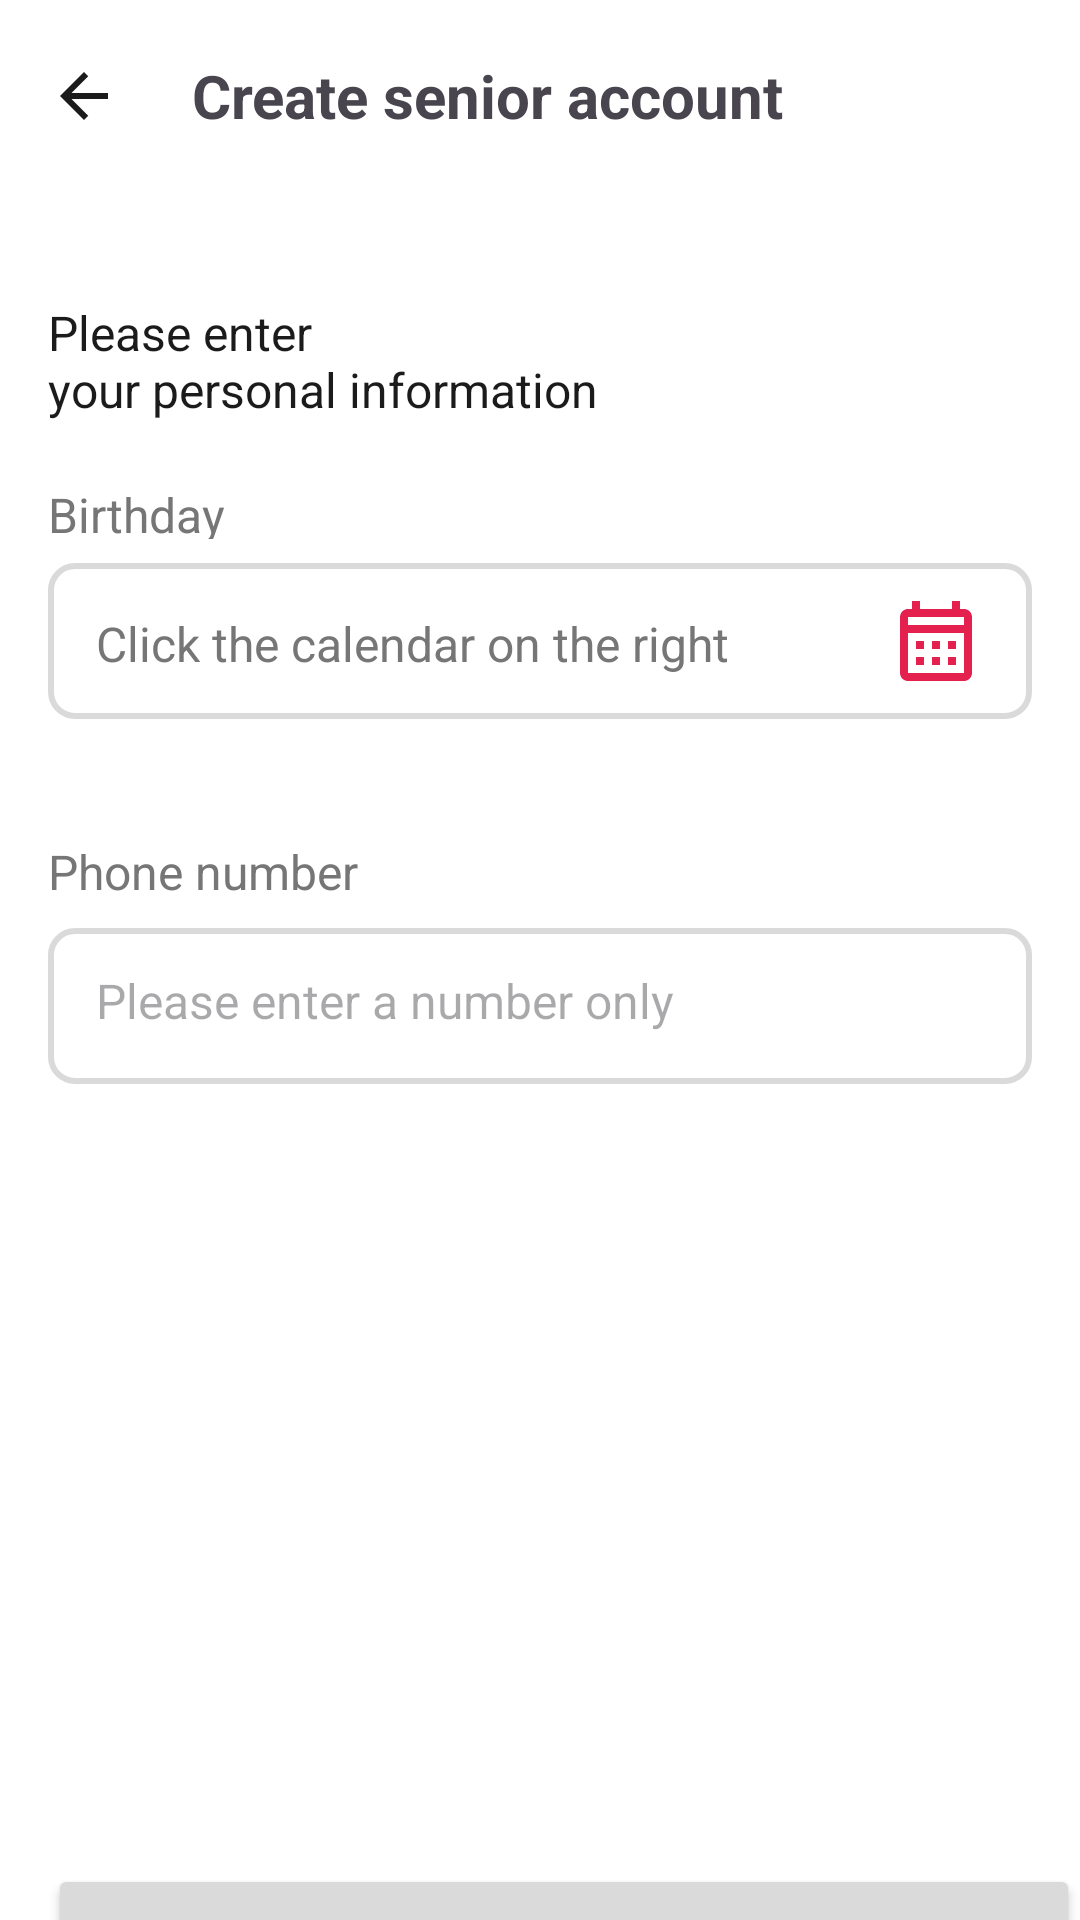

Icons on this 1080x1920 Android screen, each with the point to tap as [x,y]:
calendar: [936,641]
